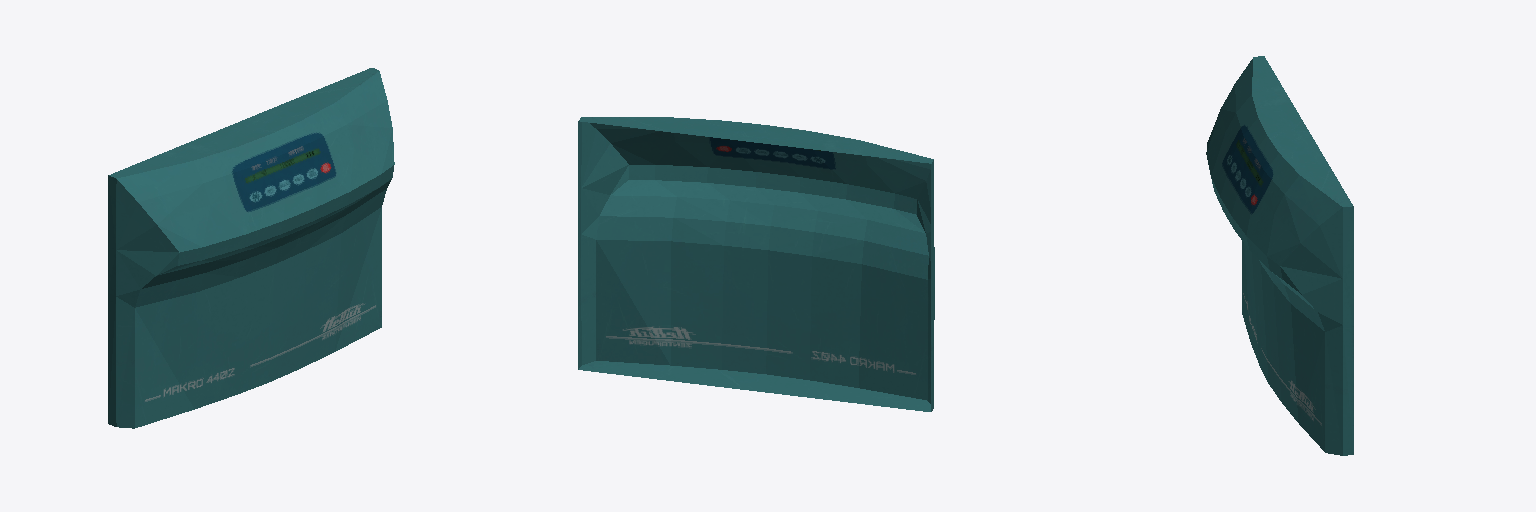
3 renders of one model, left to right at view 1: azimuth 30°, elevation 25°; view 2: azimuth 150°, elevation 25°; view 3: azimuth 270°, elevation 25°, orthographic.
Parts seen in each view (by area): view 1: body_02_low; view 2: body_02_low; view 3: body_02_low.
Part boxes in pixels (x1,y1,x2,y2): body_02_low: (108, 68, 394, 428); body_02_low: (578, 117, 934, 411); body_02_low: (1206, 56, 1353, 455).
Size of the model in its own units: 4.46 by 3.41 by 1.83.
Materials: 1 (1 with a texture image).